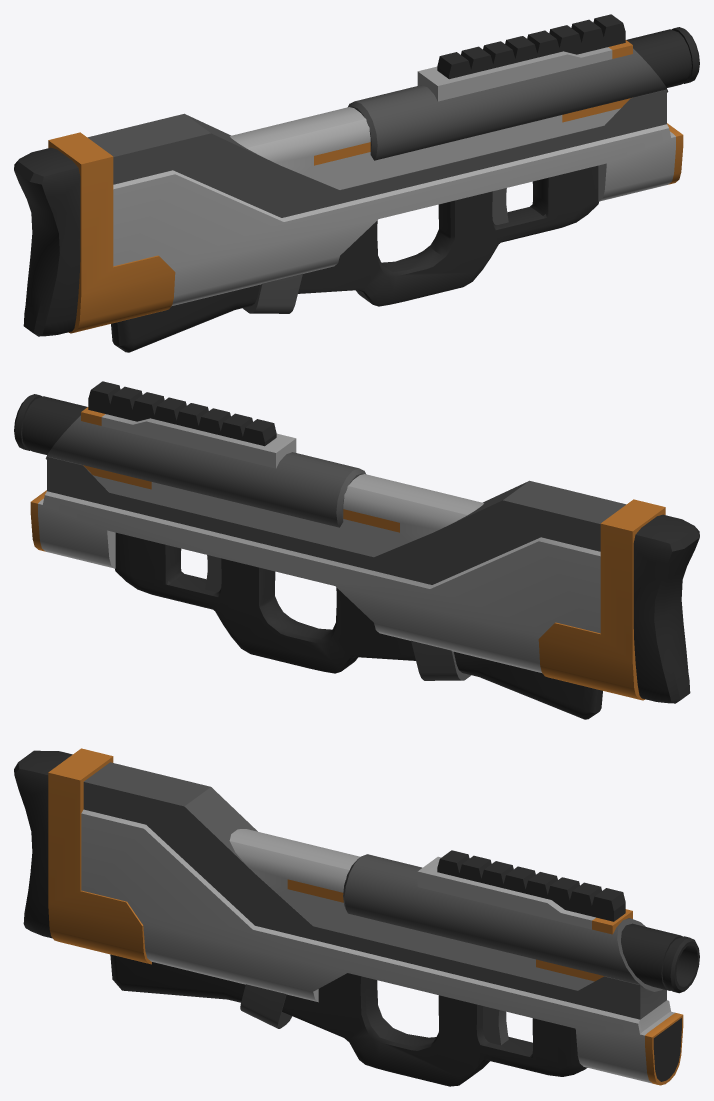
Rendered from quaternius-modular-sci-fi-guns-grenade-3.glb.
3 renders of one model, top to bottom at view 1: azimuth 30°, elevation 25°; view 2: azimuth 150°, elevation 25°; view 3: azimuth 330°, elevation 25°, orthographic.
Parts seen in each view (by area): view 1: Grenade_3; view 2: Grenade_3; view 3: Grenade_3.
Boxes of the visible parts, <box> form: Grenade_3: <box>14,14,699,352</box>; Grenade_3: <box>14,381,699,719</box>; Grenade_3: <box>14,748,699,1086</box>.
Bounding box in the file's own units: 1.69 × 0.5476 × 0.1459.
